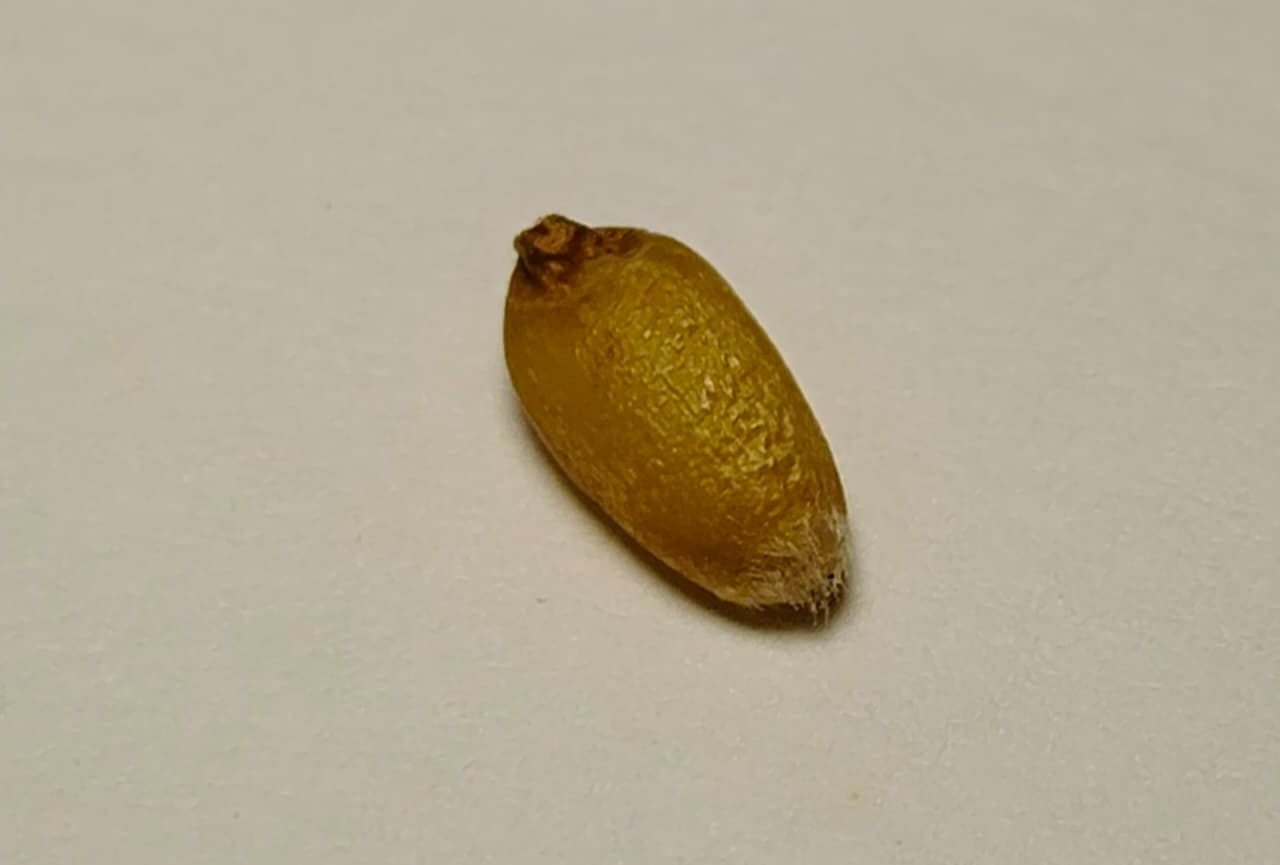healthy: (505, 217, 847, 605)
